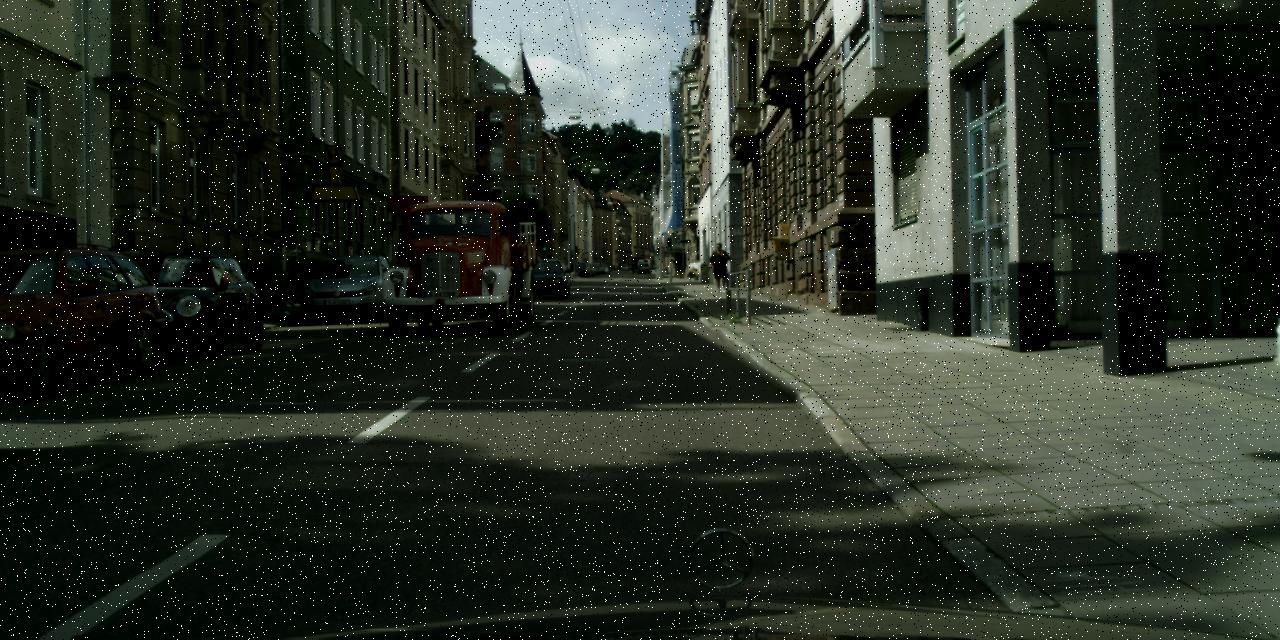ped: (710, 242, 730, 292)
